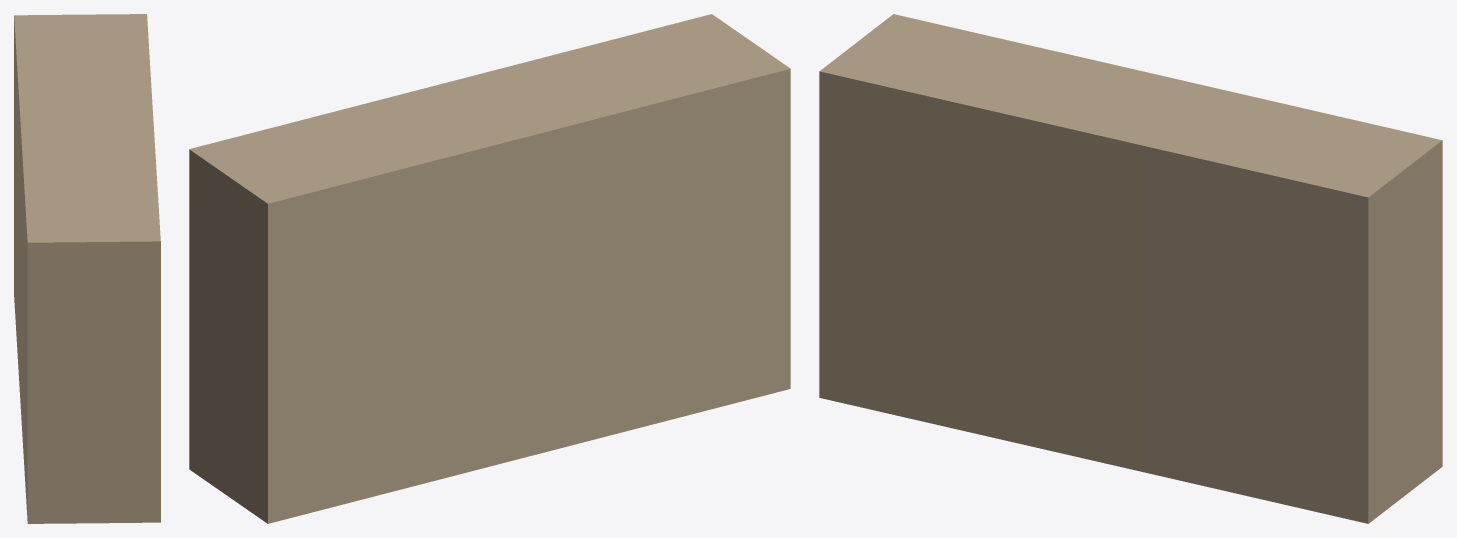
Rendered from bld_99532036.dae.
3 views of the same model, side by side, from view 1: azimuth 30°, elevation 25°; view 2: azimuth 150°, elevation 25°; view 3: azimuth 270°, elevation 25° (orthographic). The views are drawn at different scales.
Visible parts, largest first — view 1: bld_99532036; view 2: bld_99532036; view 3: bld_99532036.
Part boxes in pixels (bbox=[...]): bld_99532036: bbox=[14, 14, 160, 523]; bld_99532036: bbox=[189, 14, 790, 523]; bld_99532036: bbox=[819, 14, 1442, 523].
Bounding box in the file's own units: 9.64 × 13.84 × 8.
